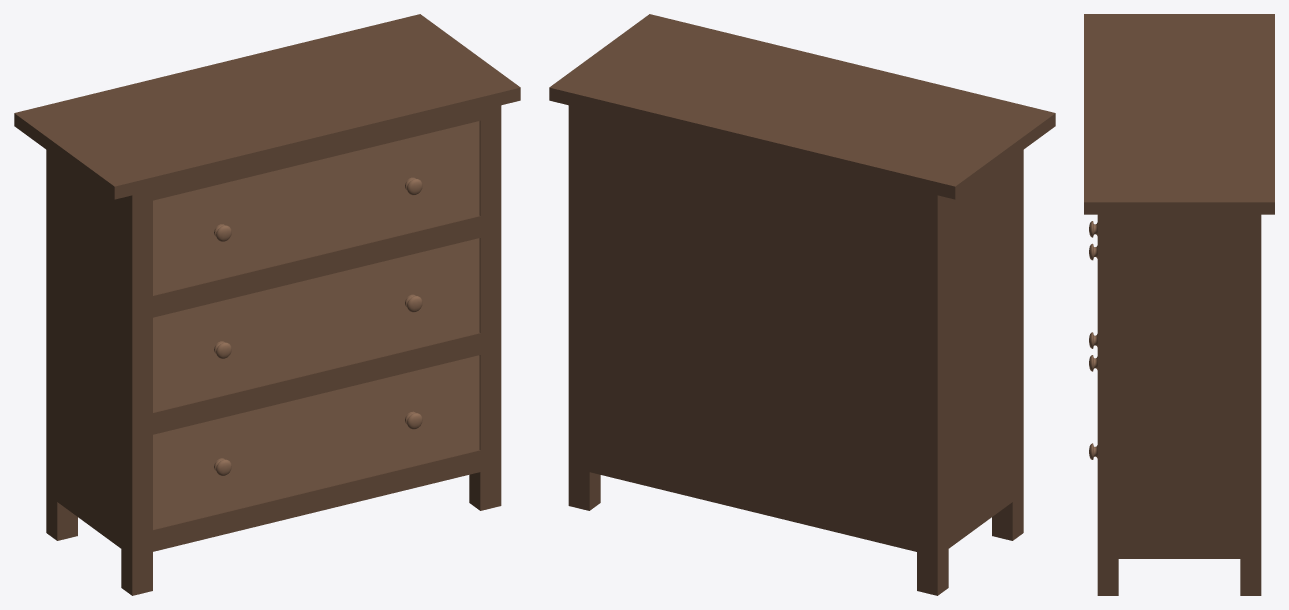
Rendered from cekmecelik.fbx.
3 renders of one model, left to right at view 1: azimuth 30°, elevation 25°; view 2: azimuth 150°, elevation 25°; view 3: azimuth 270°, elevation 25°, orthographic. The views are drawn at different scales.
Parts seen in each view (by area): view 1: chest_of_drawers_01, drawer_02, drawer_03, drawer_01; view 2: chest_of_drawers_01; view 3: chest_of_drawers_01.
Boxes of the visible parts, box(x1,y1,x2,y2) form: chest_of_drawers_01: box(14, 14, 520, 595); drawer_02: box(153, 238, 479, 412); drawer_03: box(153, 355, 479, 529); drawer_01: box(153, 121, 479, 295); chest_of_drawers_01: box(549, 14, 1055, 595); chest_of_drawers_01: box(1084, 14, 1274, 595).
Size of the model in its own units: 98 by 97 by 42.
